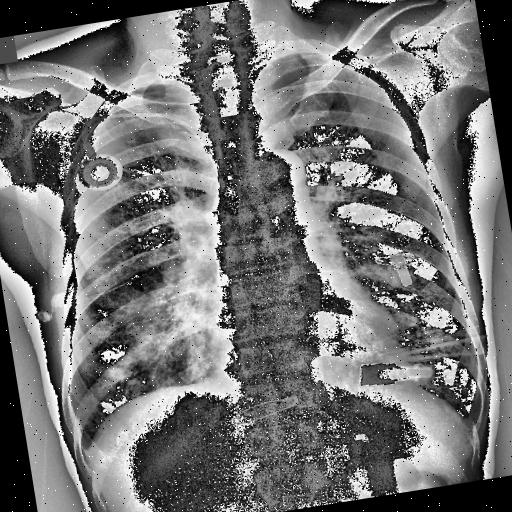0- Aortic enlargement: (244, 141, 312, 204)
10- Pleural effusion: (62, 412, 96, 466)
11- Pleural thickening: (62, 412, 96, 466)
6- Infiltration: (92, 226, 228, 396), (91, 244, 233, 394), (94, 250, 234, 394), (324, 247, 412, 362)
9- Other lesion: (25, 287, 76, 325), (32, 290, 78, 326)
